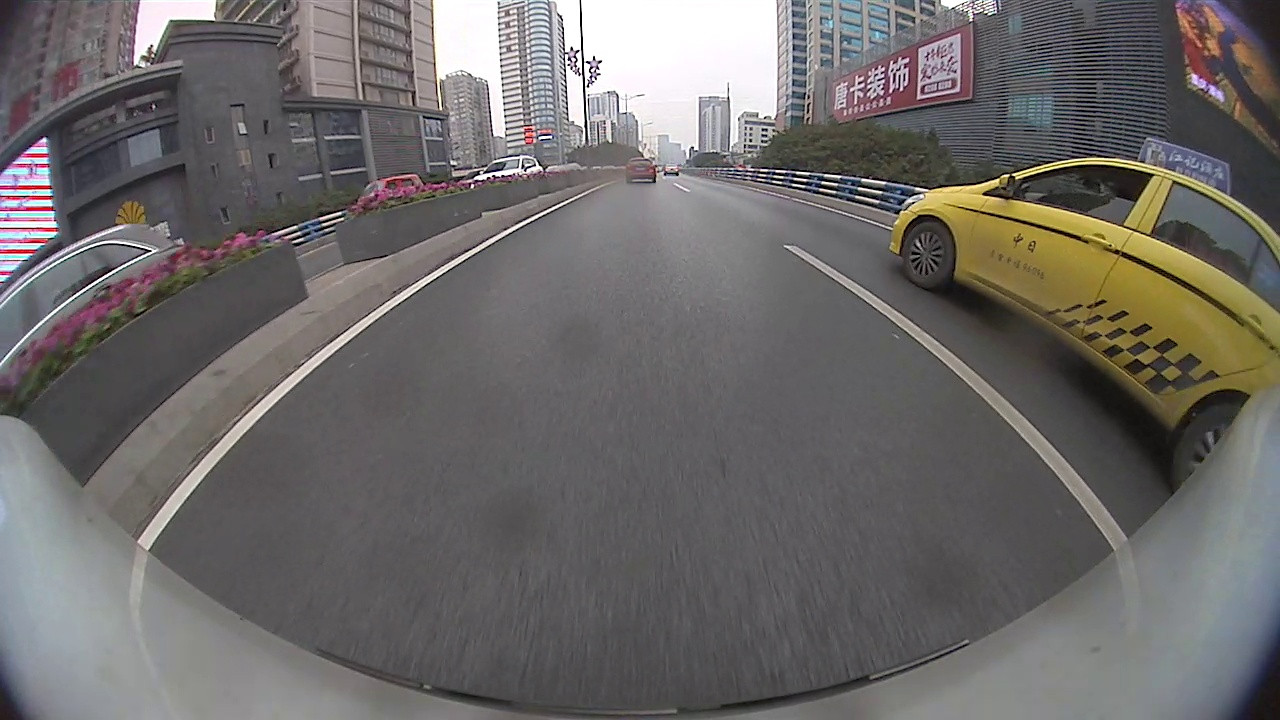car: (886, 151, 1275, 497), (1, 220, 190, 386), (353, 171, 429, 209), (471, 152, 546, 185), (624, 155, 657, 184), (457, 167, 485, 188), (662, 161, 681, 177)
front: (899, 220, 957, 290)
rear: (1170, 404, 1247, 495)
